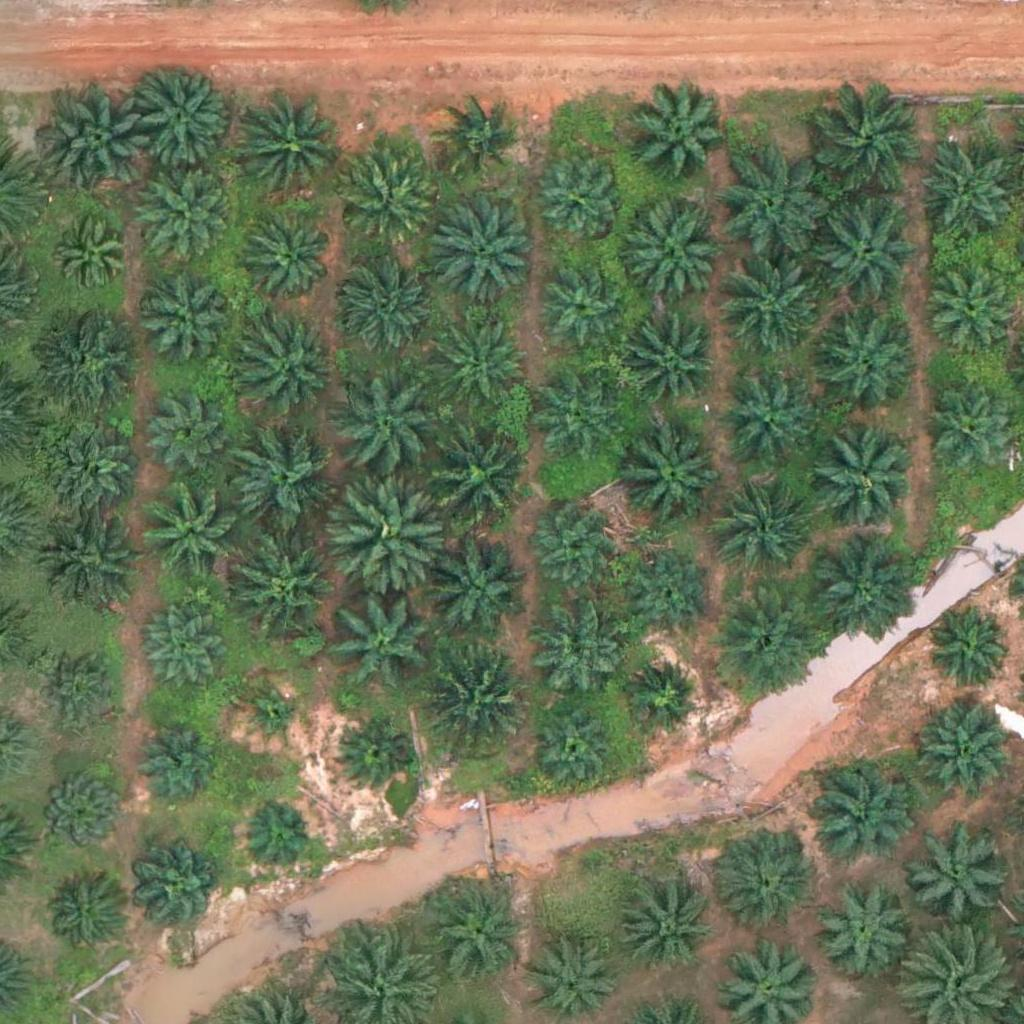Kelapa_Sawit: (232, 311, 345, 425), (808, 301, 921, 415), (27, 307, 140, 420), (338, 477, 451, 590), (612, 412, 725, 525), (714, 148, 827, 261), (711, 592, 824, 705), (812, 196, 925, 309), (800, 413, 913, 526), (45, 87, 157, 201), (337, 371, 449, 485), (231, 421, 343, 534), (230, 523, 342, 636), (333, 586, 445, 699), (426, 192, 538, 305), (426, 417, 538, 530), (424, 638, 536, 751), (614, 195, 726, 308), (717, 252, 829, 365), (705, 473, 817, 586), (811, 84, 923, 197), (804, 536, 916, 649), (130, 61, 230, 162), (133, 167, 233, 268), (142, 480, 242, 581), (234, 98, 334, 199), (341, 143, 441, 244), (433, 306, 533, 407), (426, 540, 526, 641), (429, 884, 529, 985), (524, 607, 624, 708), (624, 86, 724, 187), (617, 307, 717, 408), (922, 137, 1022, 238), (909, 823, 1009, 924), (807, 762, 907, 863), (715, 827, 815, 928), (615, 876, 715, 977), (43, 503, 143, 603), (342, 257, 442, 357), (716, 365, 816, 465), (912, 709, 1012, 809), (811, 878, 911, 978), (140, 267, 228, 355), (148, 388, 236, 476), (140, 608, 228, 696), (137, 847, 225, 935), (620, 652, 708, 740), (532, 260, 620, 348), (926, 263, 1014, 351), (929, 383, 1017, 471), (42, 874, 129, 962), (37, 767, 124, 855), (37, 646, 124, 734), (48, 213, 135, 301), (49, 430, 136, 518), (135, 714, 222, 802), (249, 220, 336, 308), (440, 92, 527, 180), (530, 151, 617, 239), (535, 378, 622, 466), (531, 503, 618, 591), (533, 707, 620, 795), (626, 548, 713, 636), (925, 606, 1012, 694), (335, 715, 410, 791), (241, 798, 316, 873), (242, 687, 305, 750)
